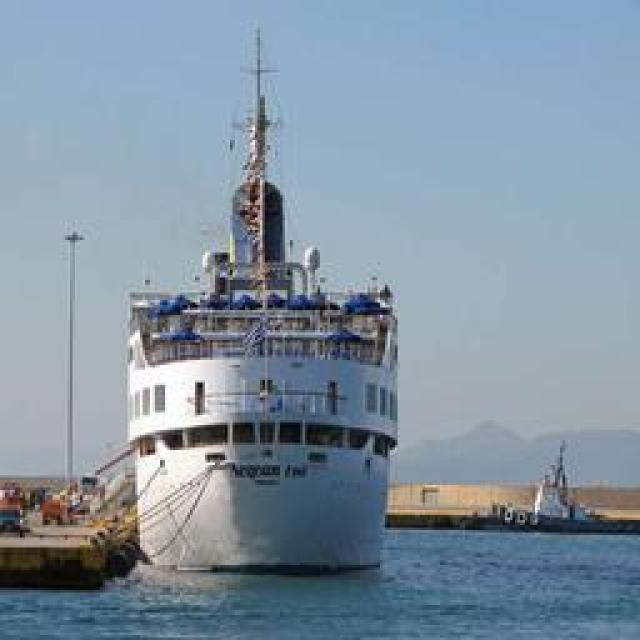ship2: (126, 27, 399, 577)
